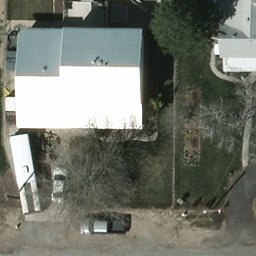camping car: (7, 134, 41, 215)
car: (50, 168, 70, 204)
pickup: (78, 214, 132, 236), (5, 32, 22, 69)
